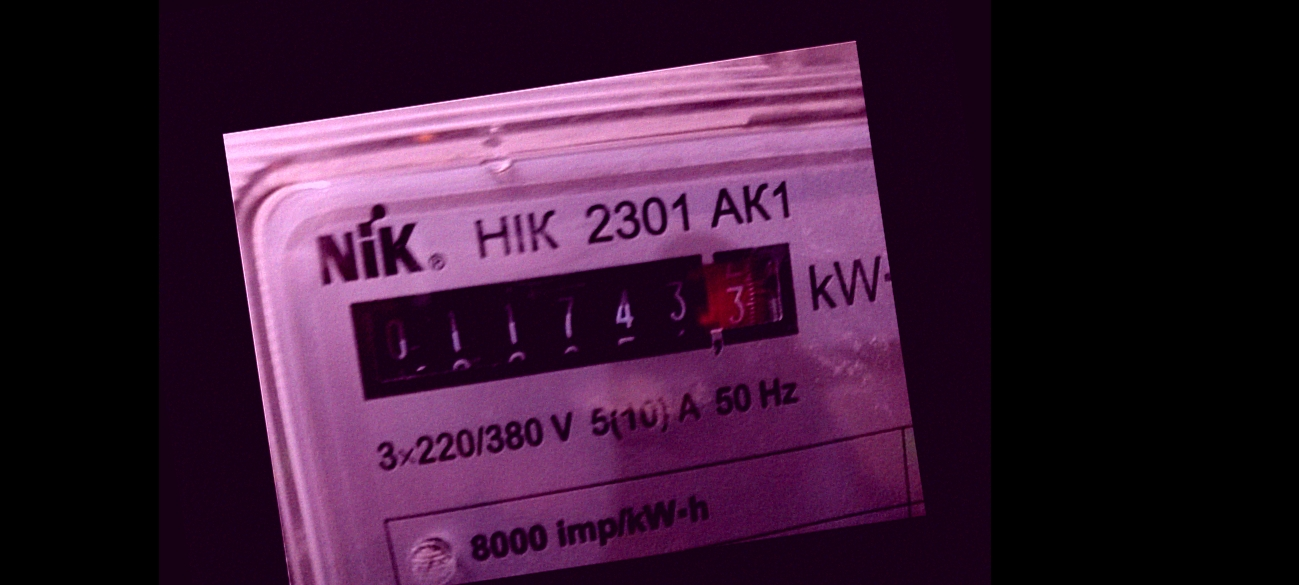0: (379, 314, 415, 365)
1: (498, 298, 526, 349), (444, 307, 467, 357)
3: (661, 275, 695, 326), (722, 281, 752, 328)
4: (607, 282, 642, 334)
7: (554, 292, 584, 343)
screen: (333, 228, 812, 413)
